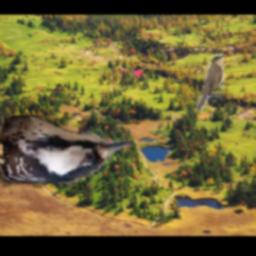Cuckoo: (197, 55, 225, 112)
Woodpecker: (0, 112, 131, 189)
